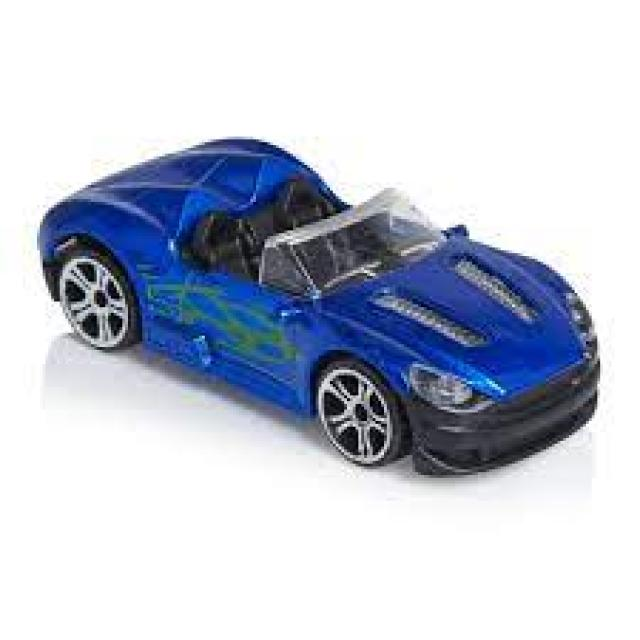Car: (34, 134, 600, 475)
